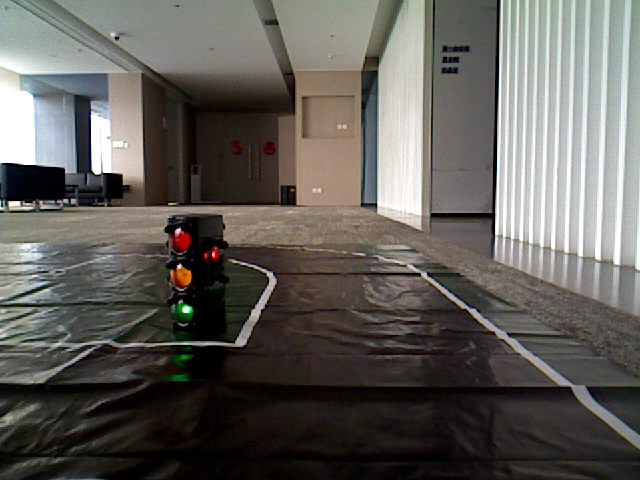green: (171, 219, 201, 320)
